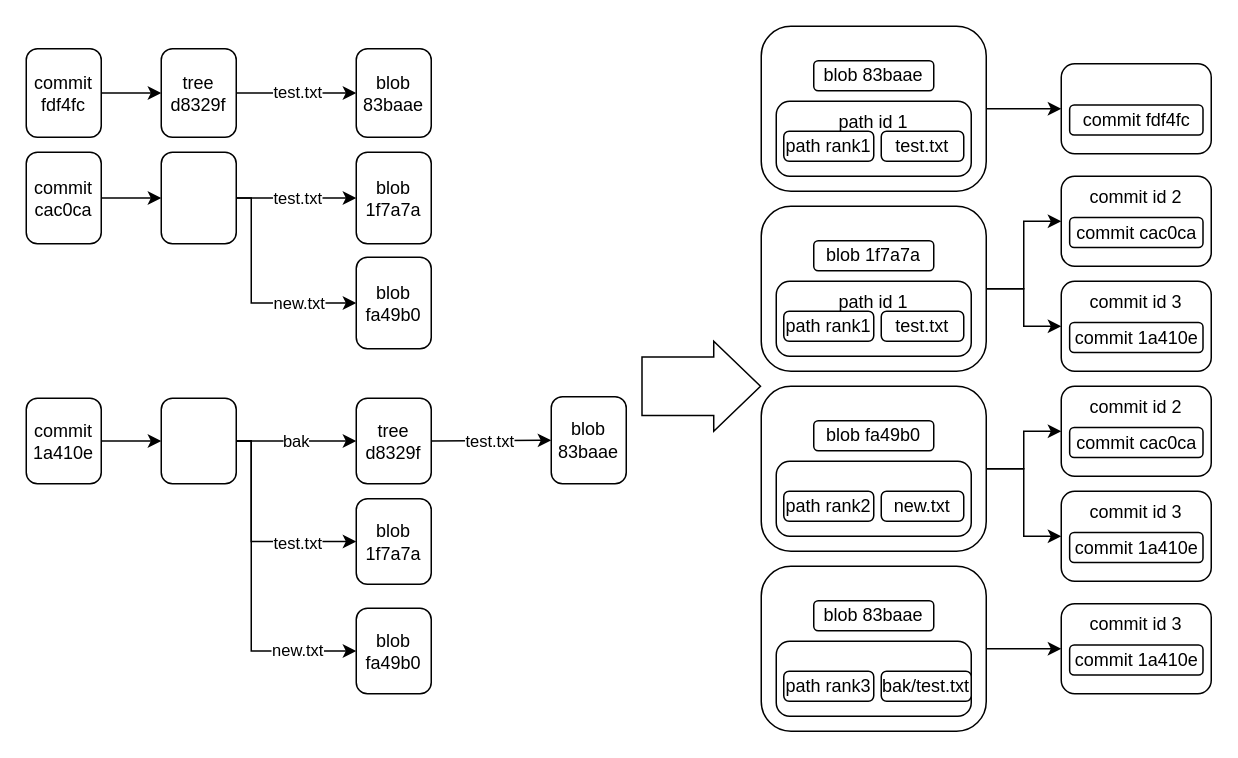
This 1238x758 diagram has some shape labels left out. The shapes that lost their labels are listed below. From the top down, each one's box as (x1, y1, x2, y2) in pixels, then its label:
(760, 25, 986, 191): blob path id 1
(1060, 62, 1211, 154): commit id 1
(160, 151, 236, 244): tree 0155eb
(760, 205, 986, 371): blob path id 2
(160, 397, 236, 484): tree 3c4e9c
(760, 385, 986, 551): blob path id 3
(775, 460, 971, 536): path id 2
(760, 565, 986, 731): blob path id 4
(775, 640, 971, 716): path id 3
